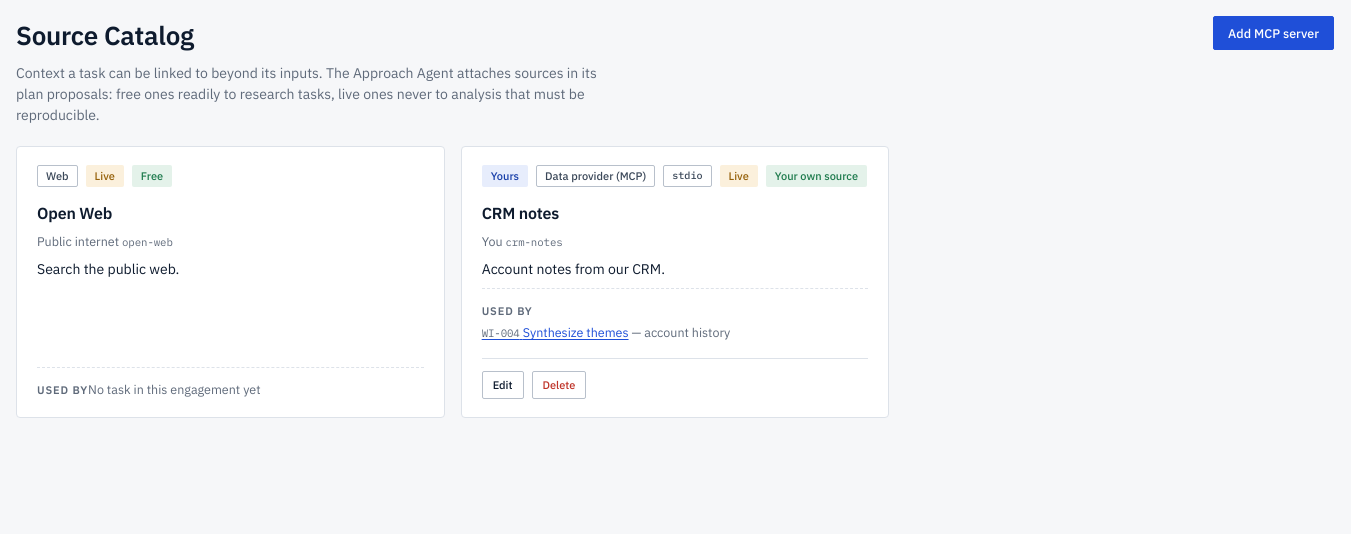
Test: SourcesPage: your own MCP servers › delete asks in the page first, listing the tasks that use the source
The width and height of the screenshot is (1351, 534).
Step 1. Click the button with test id "source-delete-crm-notes" → [559, 385], box [532,371,586,399]
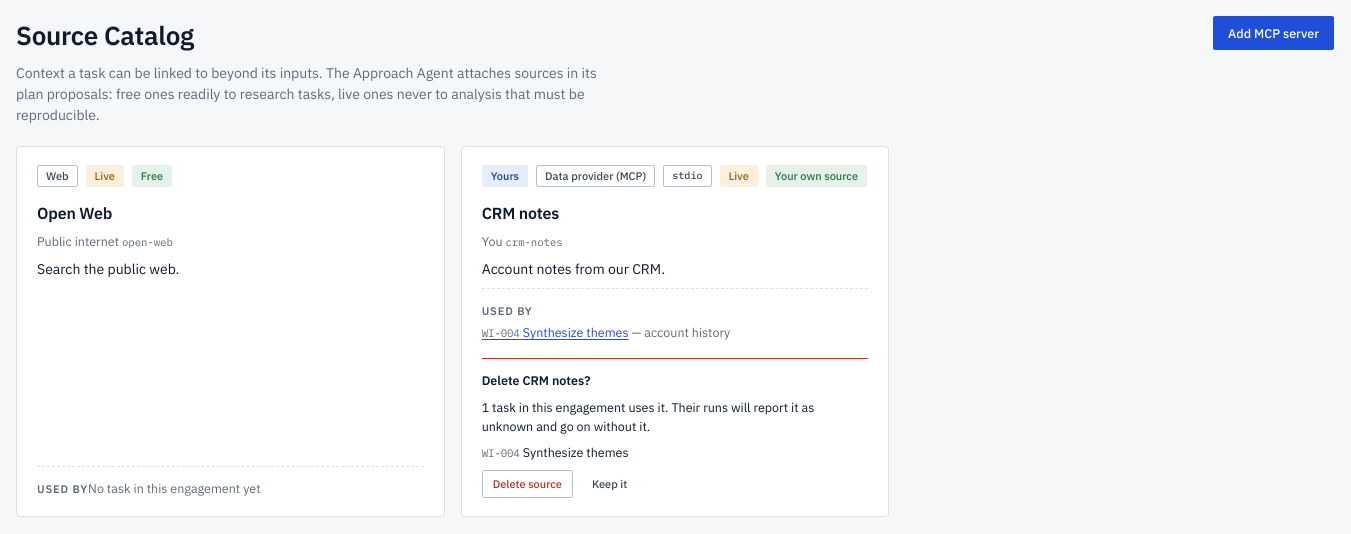
Result: the element with test id "source-delete-confirm-crm-notes" shows "1 task in this engagement uses it" at [482,399,665,415]
Result: the element with test id "source-delete-confirm-crm-notes" shows "WI-004" at [482,446,520,460]
Step 2. Click the button "Keep it" → [610, 484], box [581,470,638,498]
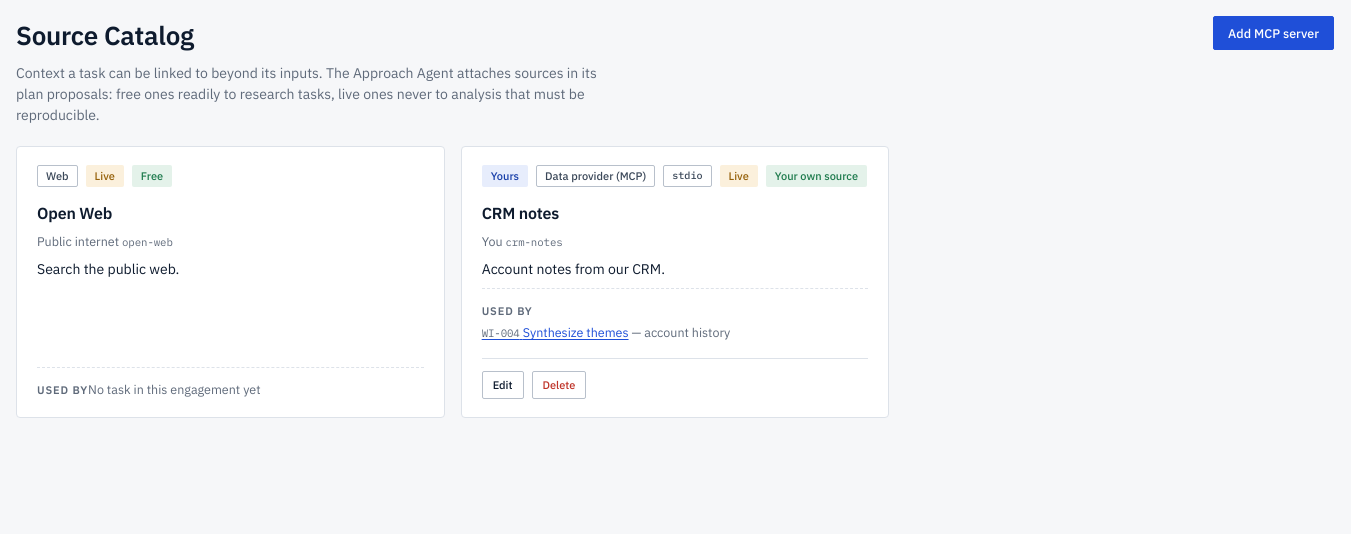
Result: the element with test id "source-delete-confirm-crm-notes" is gone
Step 3. Click the button with test id "source-delete-crm-notes" → [559, 385], box [532,371,586,399]
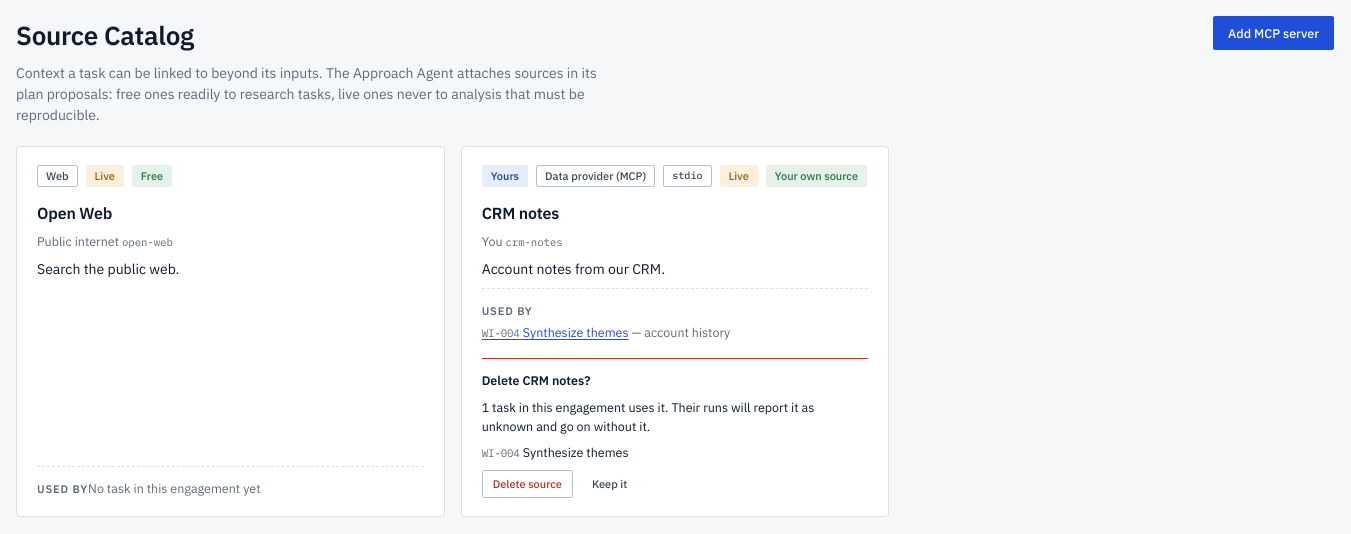
Step 4. Click the button with test id "source-delete-confirm-button-crm-notes" → [527, 484], box [482,470,573,498]
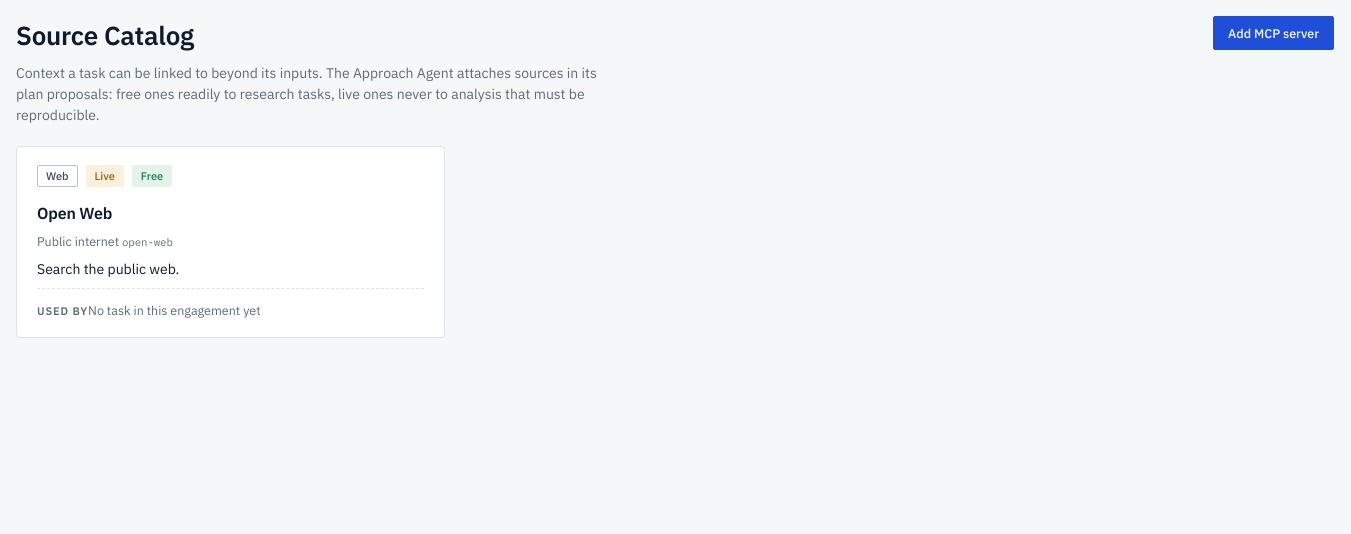
Result: the element with test id "source-card-crm-notes" is gone
